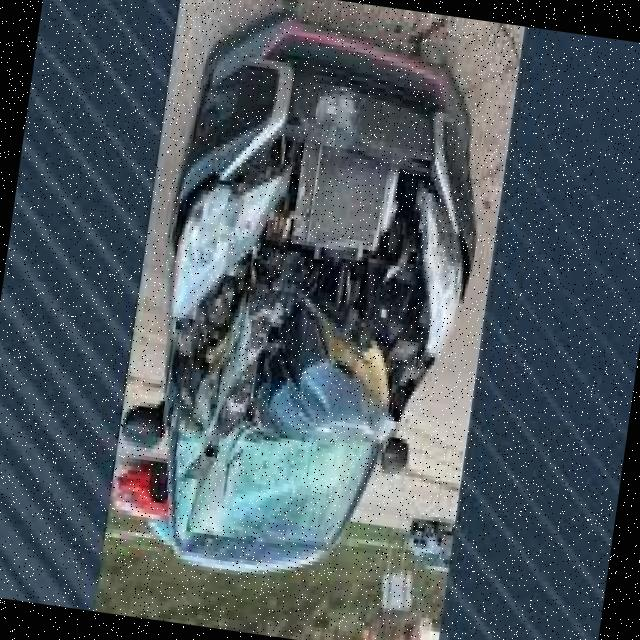Severe Damage: (130, 3, 487, 546)
